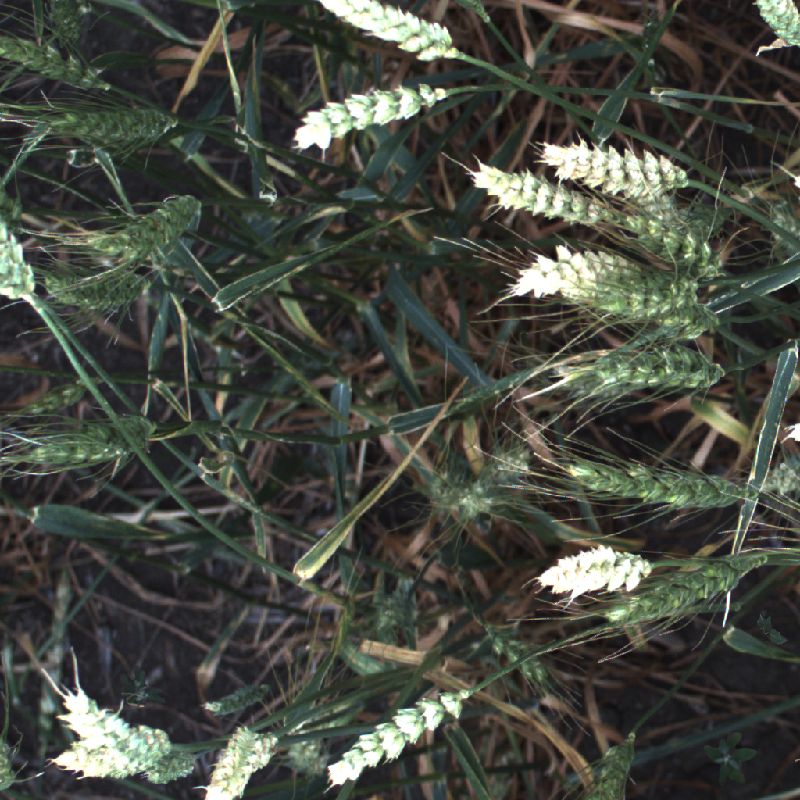spikelet: (317, 675, 478, 796), (601, 543, 772, 635), (562, 446, 761, 517), (474, 157, 630, 230), (294, 81, 444, 152), (524, 528, 662, 603), (1, 21, 124, 99), (508, 251, 667, 310), (315, 1, 465, 60), (534, 143, 699, 196), (88, 190, 202, 263), (571, 344, 725, 398), (623, 206, 728, 285), (40, 726, 178, 783), (582, 264, 701, 322), (51, 680, 144, 750), (39, 264, 155, 317), (28, 425, 142, 478), (209, 725, 285, 800), (207, 725, 283, 799), (36, 577, 74, 718), (482, 616, 555, 688), (1, 206, 46, 314), (50, 107, 177, 142), (448, 470, 507, 545), (582, 732, 646, 799), (642, 292, 721, 342), (368, 579, 425, 648), (623, 177, 677, 249), (741, 448, 800, 513), (473, 440, 540, 497), (7, 378, 90, 423), (741, 1, 800, 56), (135, 744, 207, 787), (203, 676, 269, 717), (759, 193, 800, 257), (285, 723, 331, 780)
weed: (704, 732, 757, 786), (121, 665, 166, 708), (752, 610, 790, 650)
